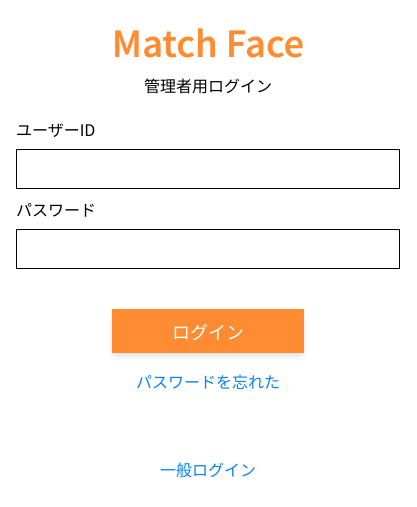
Test case: 初めてOrangeButtonがクリックされた時 › ユーザーIDが未入力の時 › パスワードが入力されている場合、"※ユーザーIDを入力してください。"が表示されること
Type "incorrectPass#1" into the password field labelled "パスワード" at (208, 249), box x1=16 y1=229 x2=400 y2=269
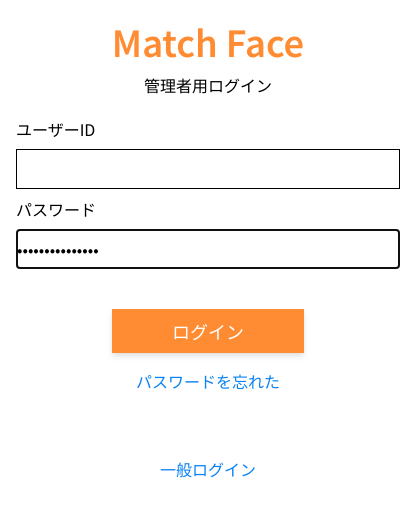
Click the button "ログイン" at (208, 331), box x1=112 y1=309 x2=304 y2=353
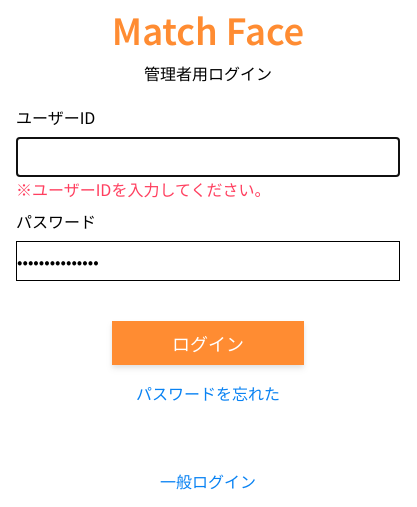
Now the text "※ユーザーIDを入力してください。" is shown, box x1=16 y1=177 x2=270 y2=201
